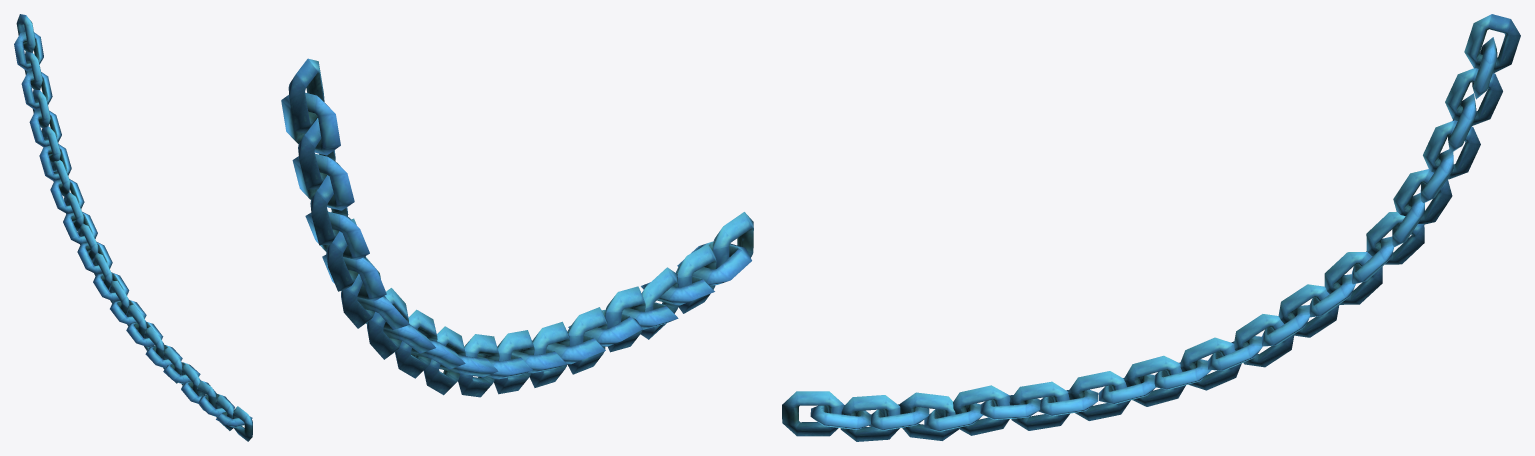
File: Stage_ZhuCheng_LianZi.FBX
3 views of the same model, side by side, from view 1: azimuth 30°, elevation 25°; view 2: azimuth 150°, elevation 25°; view 3: azimuth 270°, elevation 25° (orthographic). The views are drawn at different scales.
Visible parts, largest first — view 1: Stage_ZhuCheng_LianZi; view 2: Stage_ZhuCheng_LianZi; view 3: Stage_ZhuCheng_LianZi.
Boxes of the visible parts, bbox=[...] form: Stage_ZhuCheng_LianZi: bbox=[14, 14, 252, 441]; Stage_ZhuCheng_LianZi: bbox=[281, 58, 753, 397]; Stage_ZhuCheng_LianZi: bbox=[782, 14, 1520, 441].
Size of the model in its own units: 46.5 by 392 by 616.
